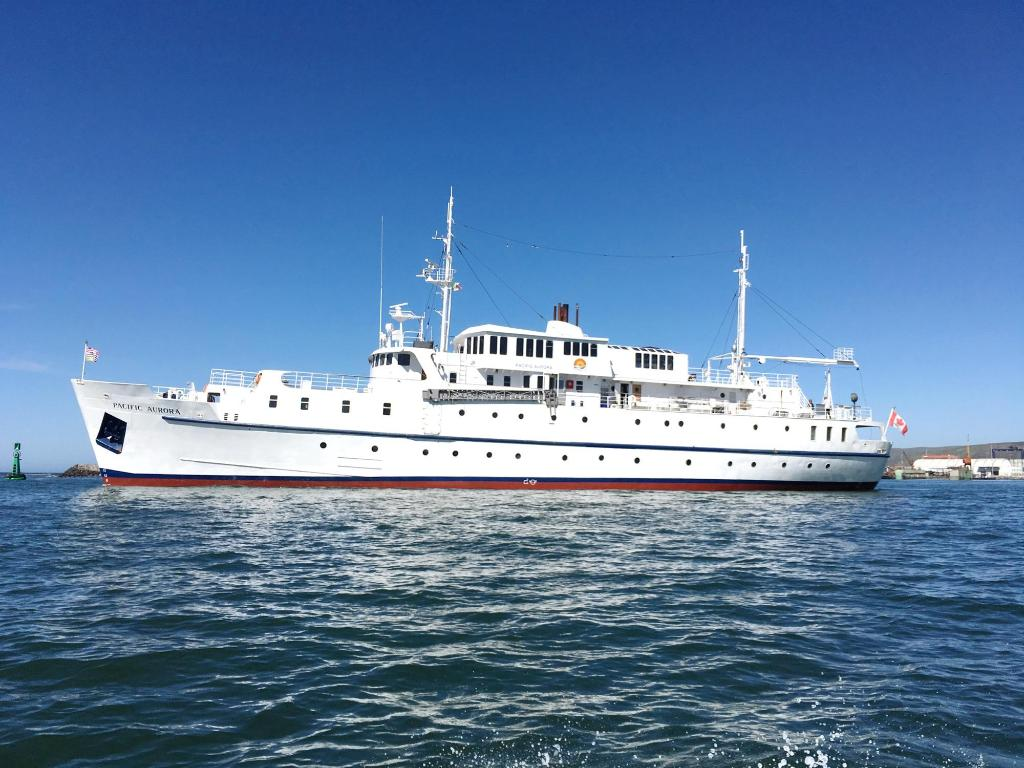PassengerShip: (64, 215, 894, 497)
